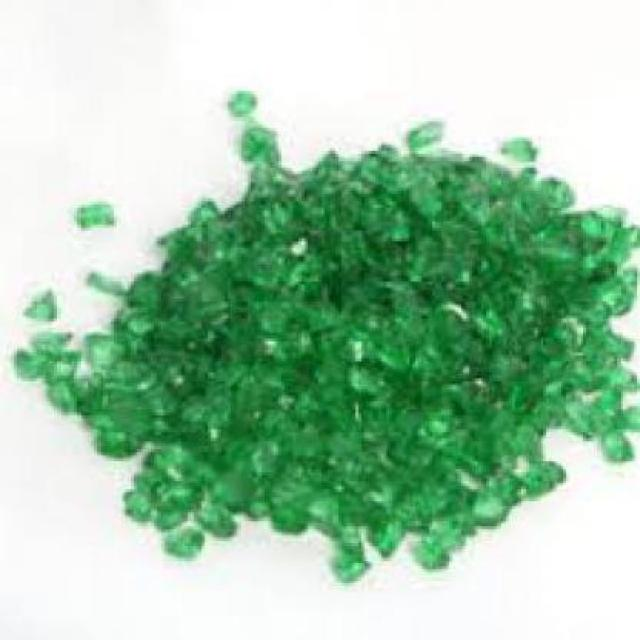kaca: (302, 142, 563, 268), (248, 348, 452, 495), (244, 160, 318, 485), (311, 186, 409, 428), (479, 211, 603, 392), (174, 197, 254, 469), (362, 388, 532, 478), (438, 344, 592, 436), (411, 222, 482, 404), (124, 265, 190, 452), (86, 322, 214, 412), (117, 302, 268, 372), (157, 225, 251, 312), (208, 463, 272, 515), (124, 460, 170, 509), (385, 483, 426, 535), (549, 396, 594, 442), (268, 480, 309, 529), (600, 255, 637, 308), (424, 506, 464, 552), (188, 502, 238, 538), (88, 410, 130, 452), (305, 486, 346, 529), (23, 278, 63, 322), (134, 444, 184, 478), (358, 510, 398, 552), (482, 469, 523, 509), (580, 388, 620, 429), (592, 356, 637, 392), (464, 482, 502, 523), (157, 524, 198, 558), (408, 532, 449, 566), (240, 114, 277, 151), (592, 423, 632, 455), (425, 478, 466, 509), (242, 489, 282, 520), (148, 496, 182, 532), (518, 455, 560, 483), (12, 344, 46, 378), (72, 376, 106, 410), (495, 134, 540, 158), (405, 117, 449, 141), (606, 217, 637, 251), (515, 456, 543, 492), (224, 88, 258, 117), (157, 482, 197, 506), (329, 552, 362, 580), (575, 208, 617, 230), (31, 331, 77, 351), (43, 379, 77, 406), (74, 202, 117, 222), (46, 348, 71, 382), (336, 523, 362, 555), (83, 264, 114, 290), (122, 483, 150, 509), (609, 399, 637, 423), (600, 328, 629, 348), (88, 412, 120, 426)
